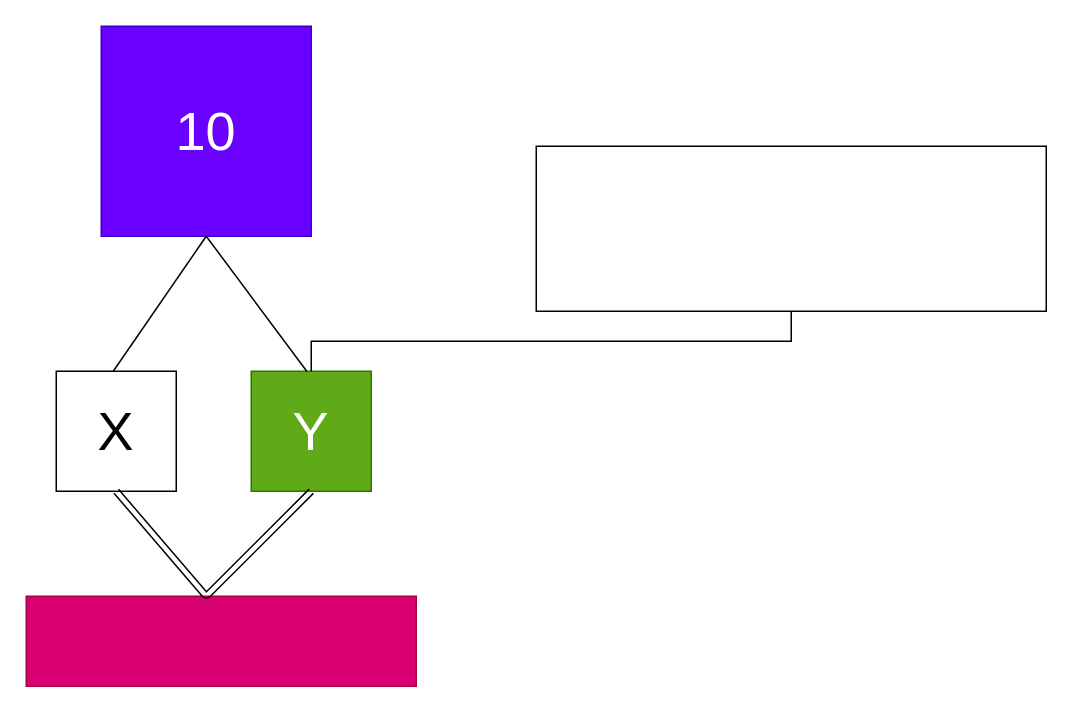
Some shapes in this 1073 by 713 pixel diagram are drawn without their labels. Each missing label, with the box of its shape:
To Make "Y" as a Reference Variable use &Y = X;: (535, 145, 1046, 311)
Variable: (25, 595, 416, 686)
